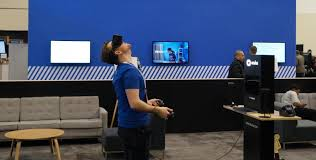oculus: (111, 32, 125, 53)
